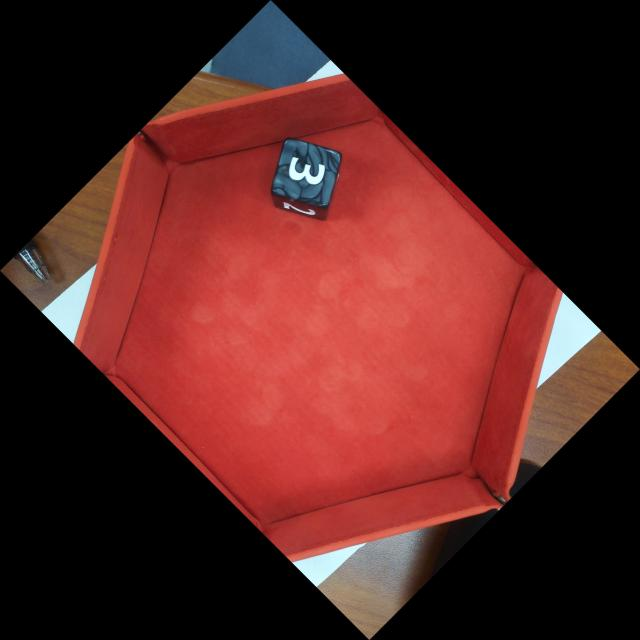dice: (272, 143, 340, 207)
